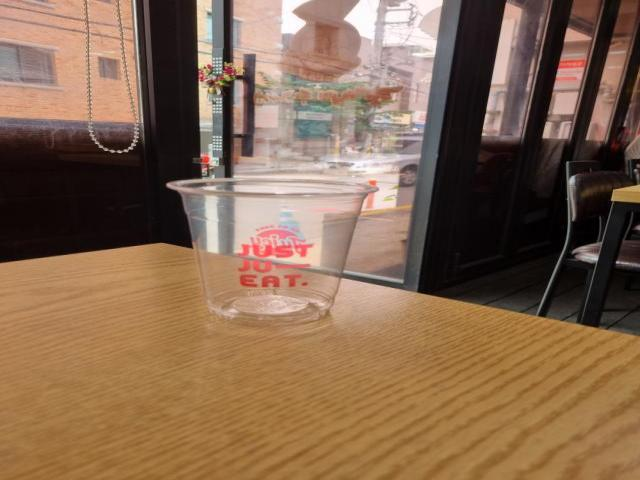cup: (157, 173, 390, 333)
